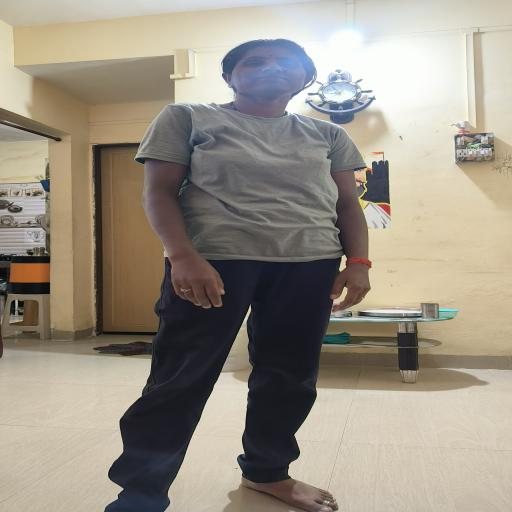survivor: (102, 38, 373, 512)
